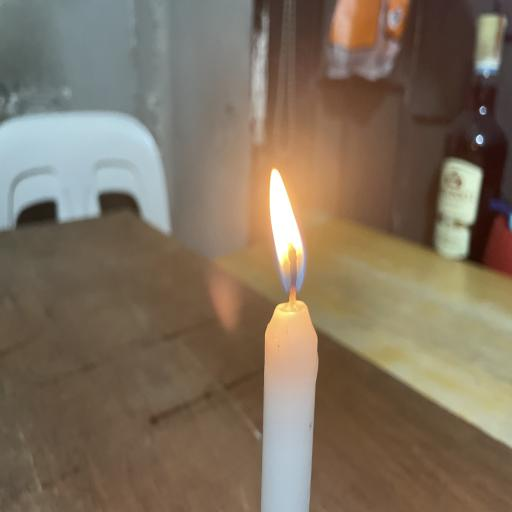fire: (239, 160, 343, 310)
